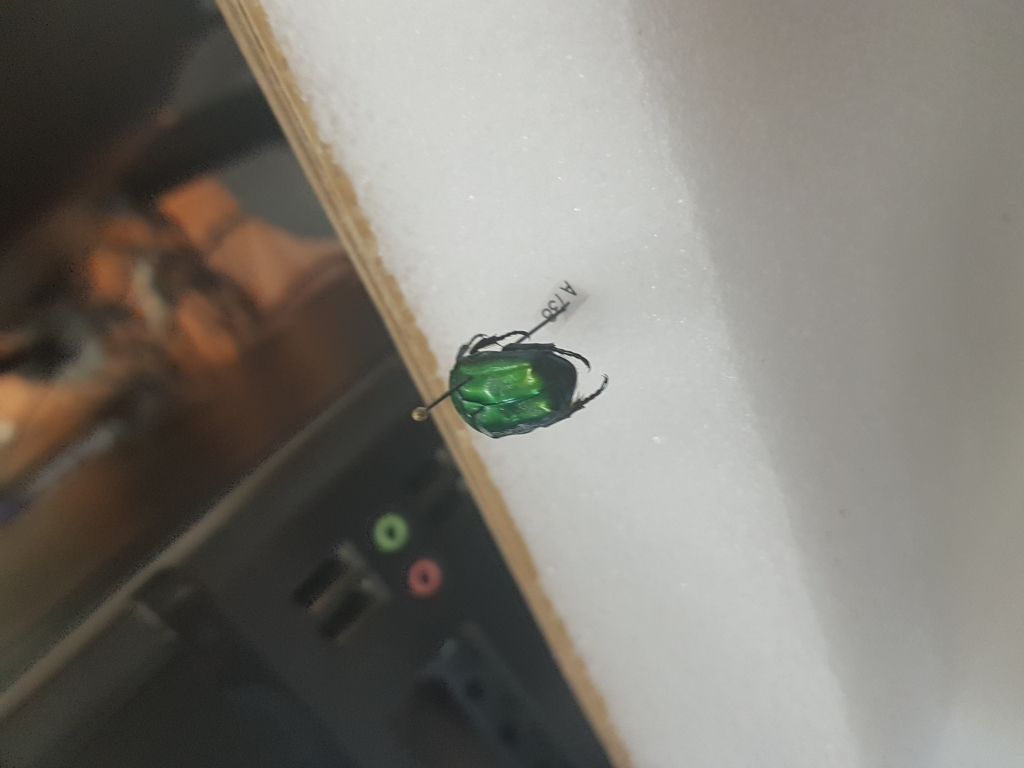Protaetia_cuprea_ignicollis: (449, 320, 623, 446)
